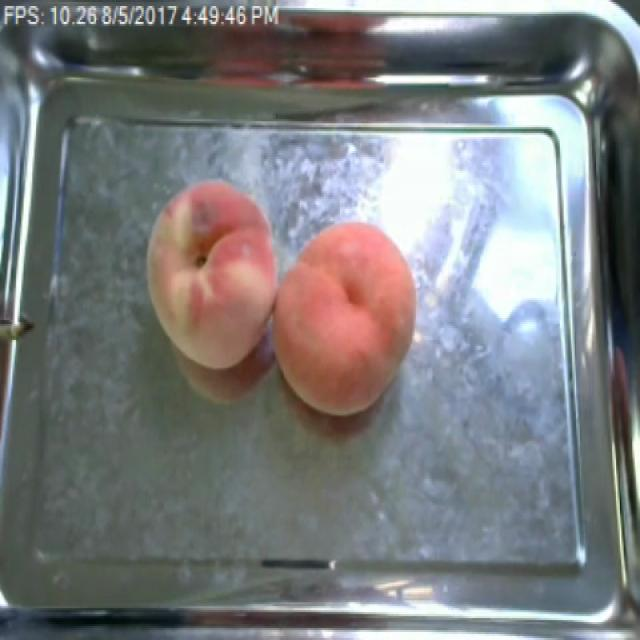Fruit: (264, 211, 427, 425), (139, 171, 288, 376)
